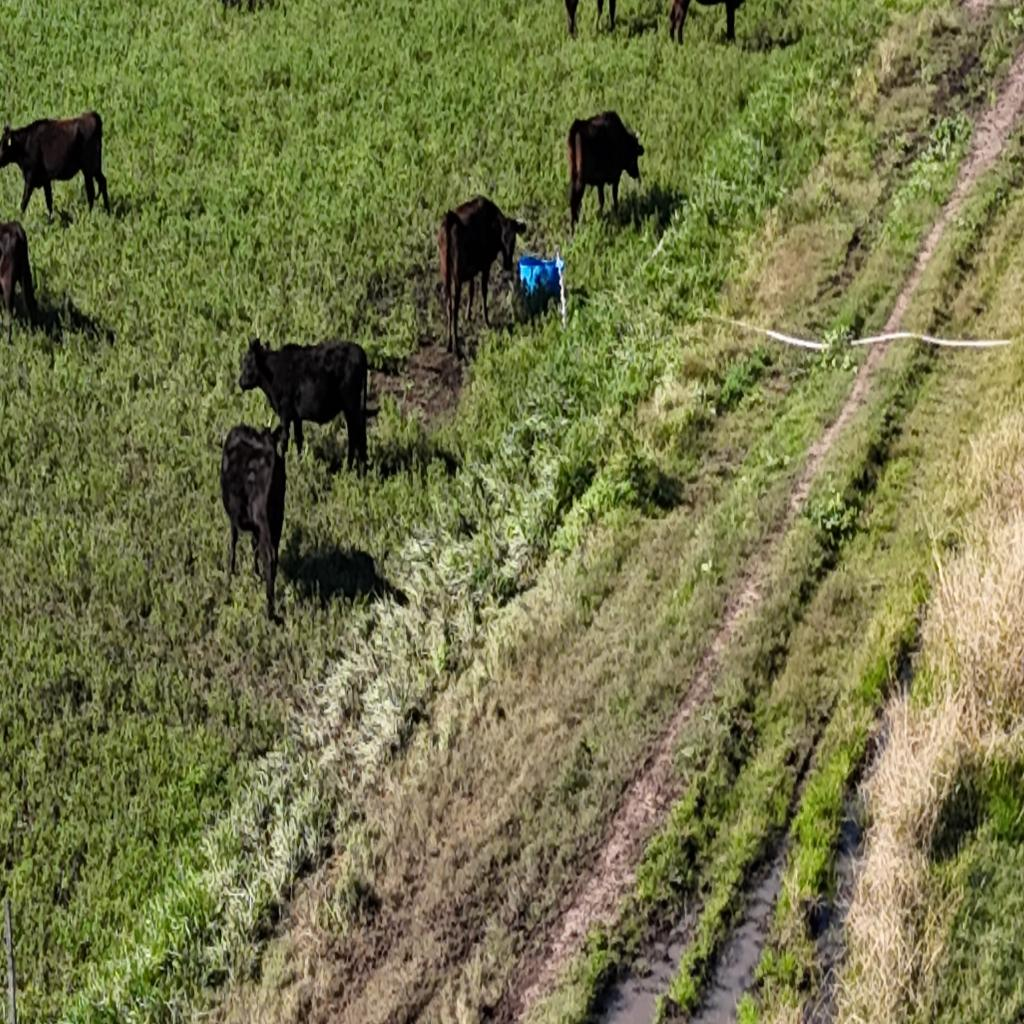cow: (237, 332, 371, 474), (436, 194, 528, 358), (219, 422, 287, 622), (2, 113, 109, 223), (566, 110, 644, 234), (0, 218, 38, 339)
